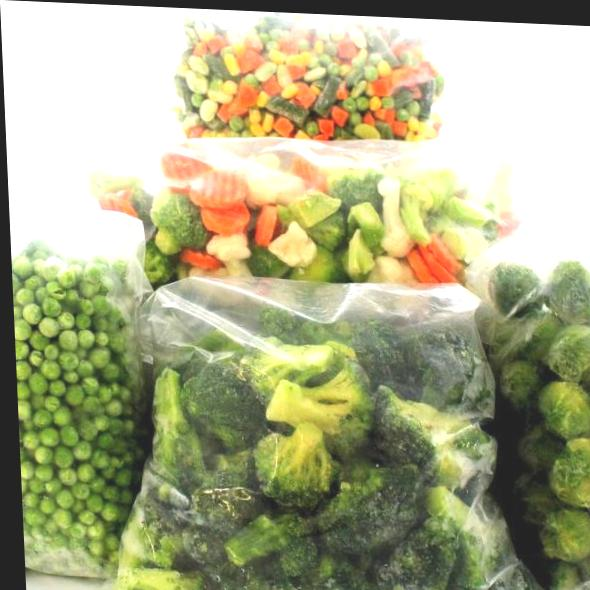Broccoli: (329, 449, 432, 559), (260, 364, 381, 449), (374, 370, 467, 467), (156, 376, 226, 502), (241, 427, 347, 504)
Peas: (13, 286, 97, 570), (12, 280, 92, 526), (19, 420, 117, 513), (49, 307, 117, 425), (13, 256, 86, 348), (16, 350, 38, 423)
